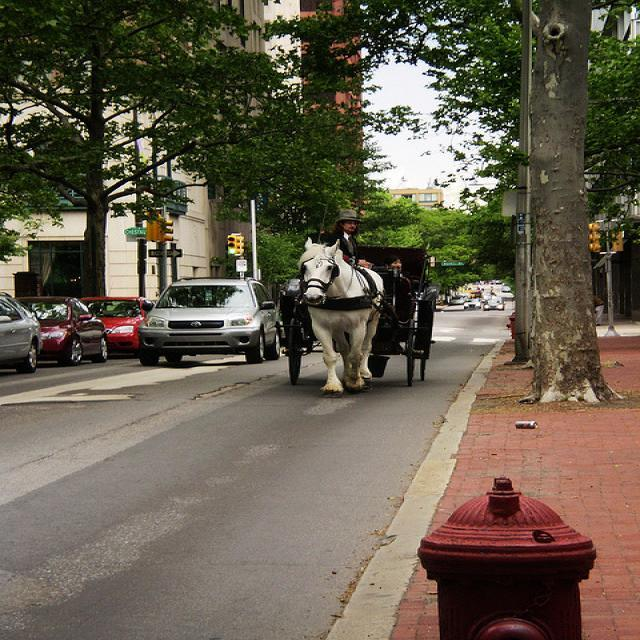fire_hydrant: (421, 477, 595, 630), (504, 312, 514, 343)
